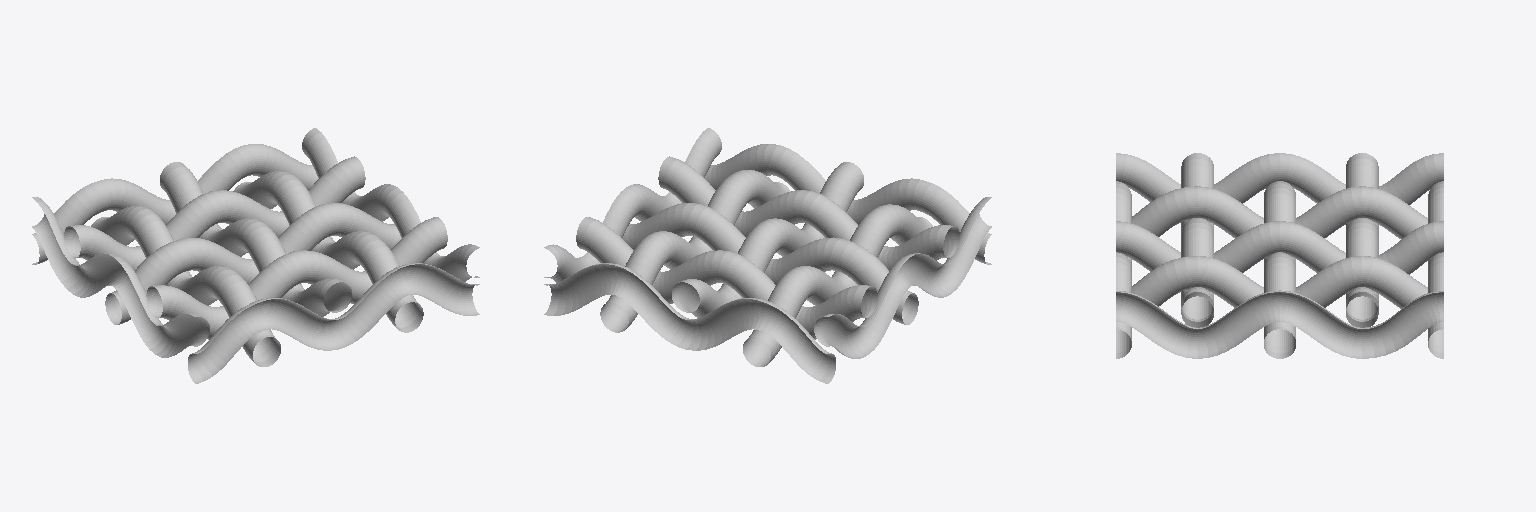
Rendered from fabric_instantiated.obj.
The picture shows the model from 3 angles: view 1: azimuth 30°, elevation 25°; view 2: azimuth 150°, elevation 25°; view 3: azimuth 270°, elevation 25°; orthographic projection.
Visible parts, largest first — view 1: wefts, warps; view 2: wefts, warps; view 3: warps, wefts.
Boxes of the visible parts, <box> form: wefts: <box>32,144,479,383</box>; warps: <box>32,128,479,366</box>; wefts: <box>544,144,991,383</box>; warps: <box>544,128,991,366</box>; warps: <box>1116,153,1443,358</box>; wefts: <box>1116,153,1443,358</box>.
Bounding box in the file's own units: 4 × 0.9 × 4.